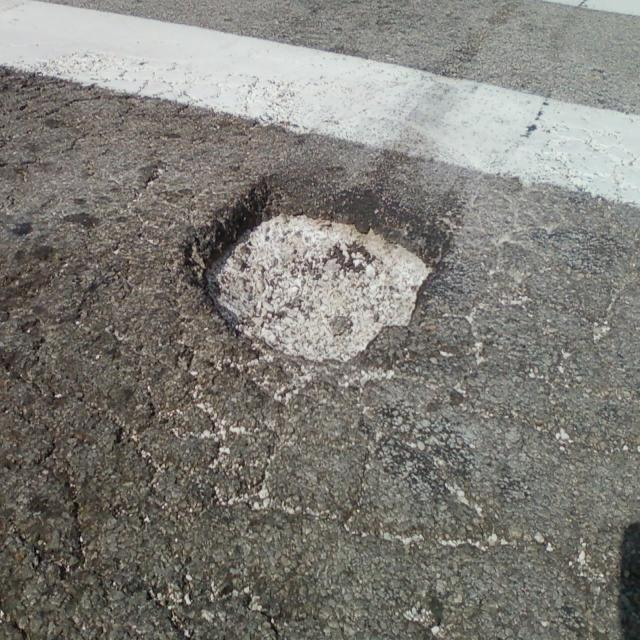Potholes: (172, 147, 451, 390)
